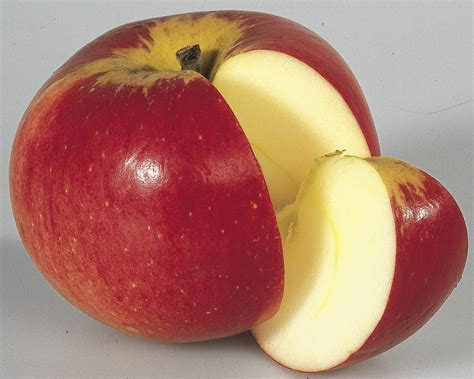apple: (9, 10, 392, 342)
